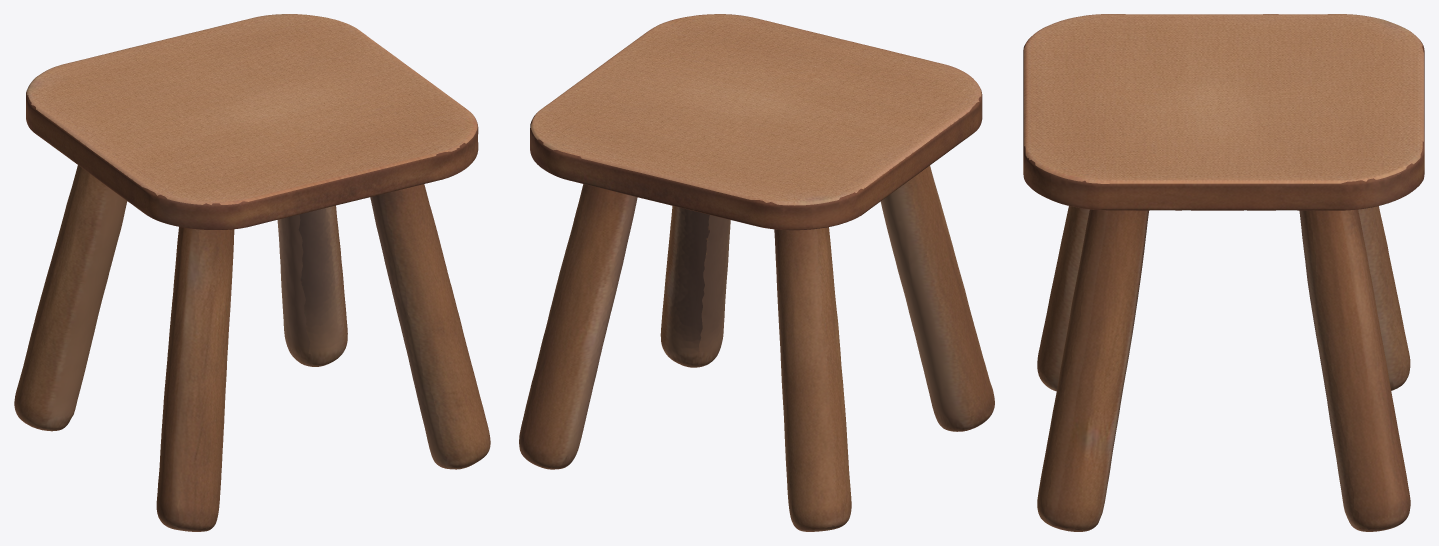
The model's file is stool__stool#1.glb.
The picture shows the model from 3 angles, left to right: view 1: azimuth 30°, elevation 25°; view 2: azimuth 150°, elevation 25°; view 3: azimuth 270°, elevation 25°; orthographic projection. The views are drawn at different scales.
Parts seen in each view (by area): view 1: tmpoipopfeb.ply; view 2: tmpoipopfeb.ply; view 3: tmpoipopfeb.ply.
Part boxes in pixels (left/top/right/bottom): tmpoipopfeb.ply: left=14, top=14, right=490, bottom=531; tmpoipopfeb.ply: left=519, top=14, right=994, bottom=531; tmpoipopfeb.ply: left=1023, top=14, right=1424, bottom=531.
Bounding box in the file's own units: 1.99 × 1.98 × 1.99.
Materials: 1 (1 with a texture image).
